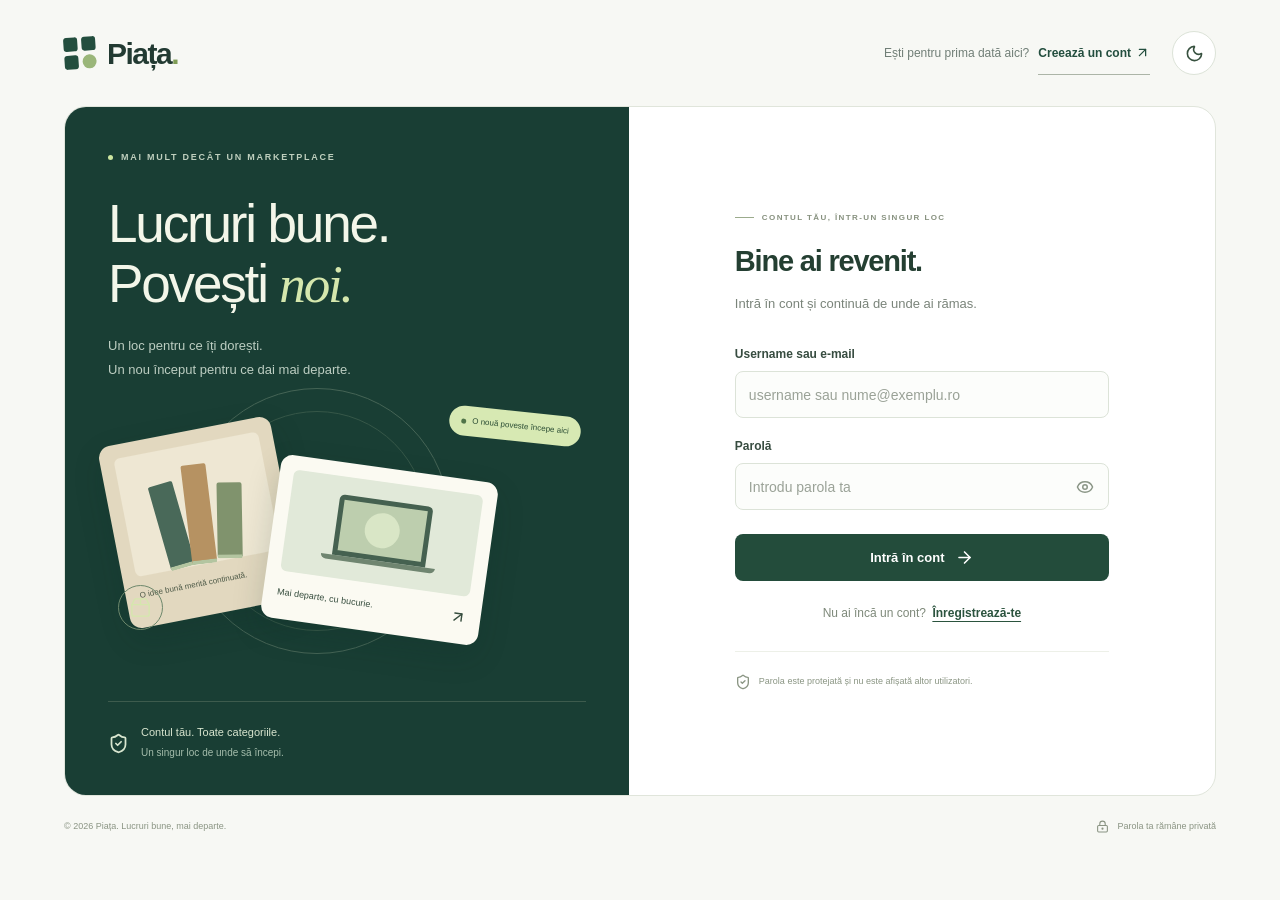
Test: authentication screens › shows a useful login error without navigating to the account page
Type "seller@example.test" into the field labelled "Username sau e-mail". click: point(922, 394)
box: [735,371,1109,418]
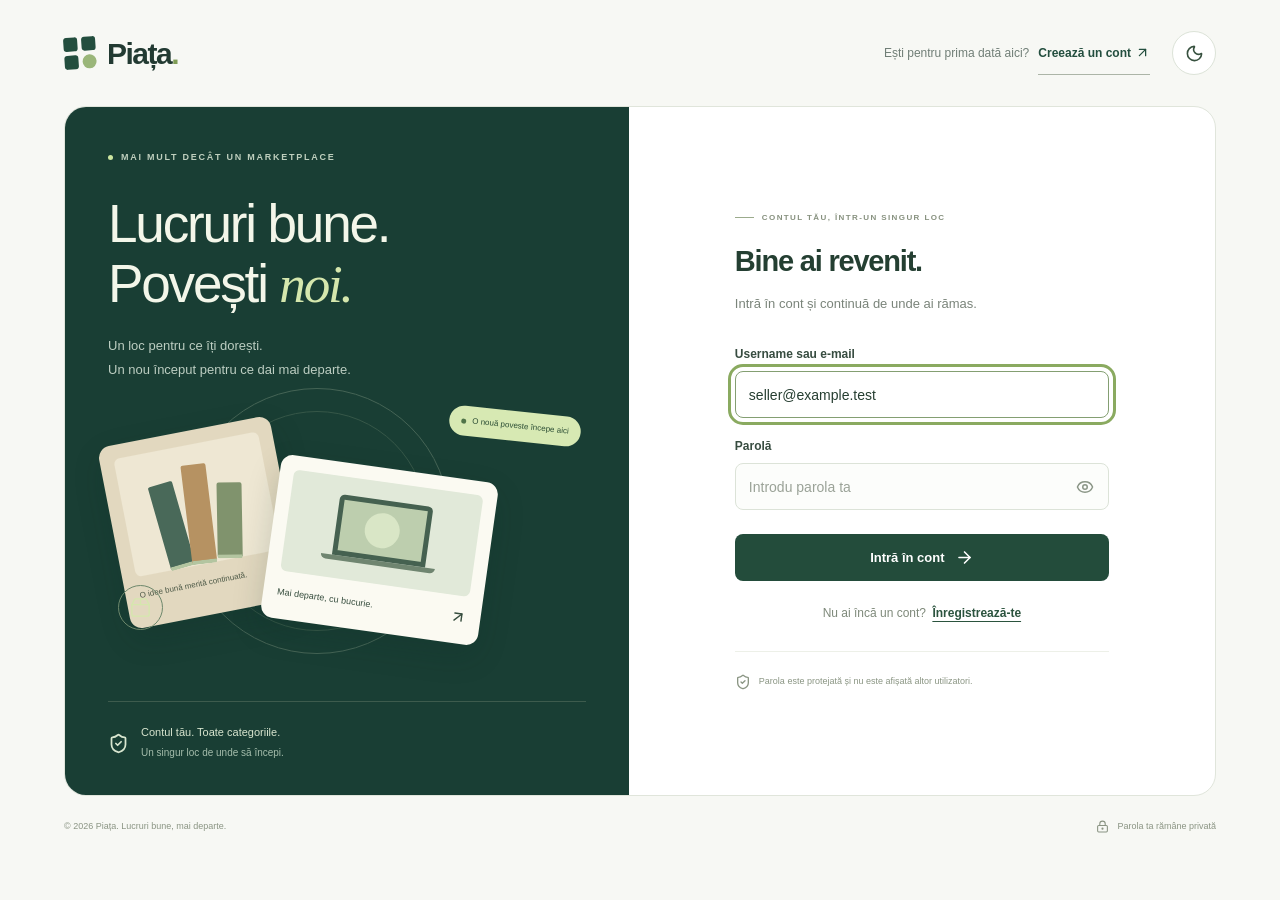
Type "Wrong-password!" into the password field labelled "Parolă". click: point(922, 486)
box: [735,463,1109,510]
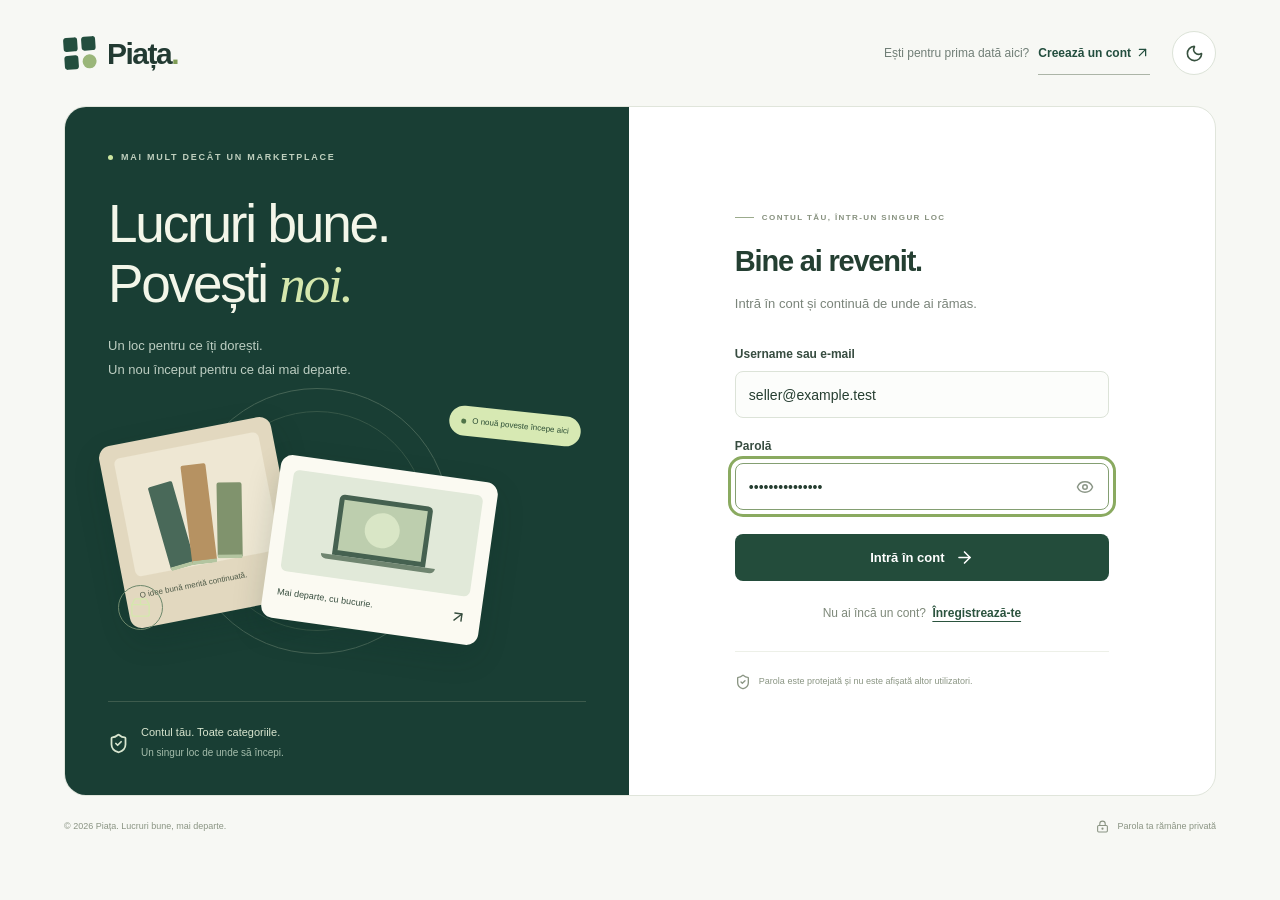
Click the button "Intră în cont". click: point(922, 558)
box: [735,534,1109,581]
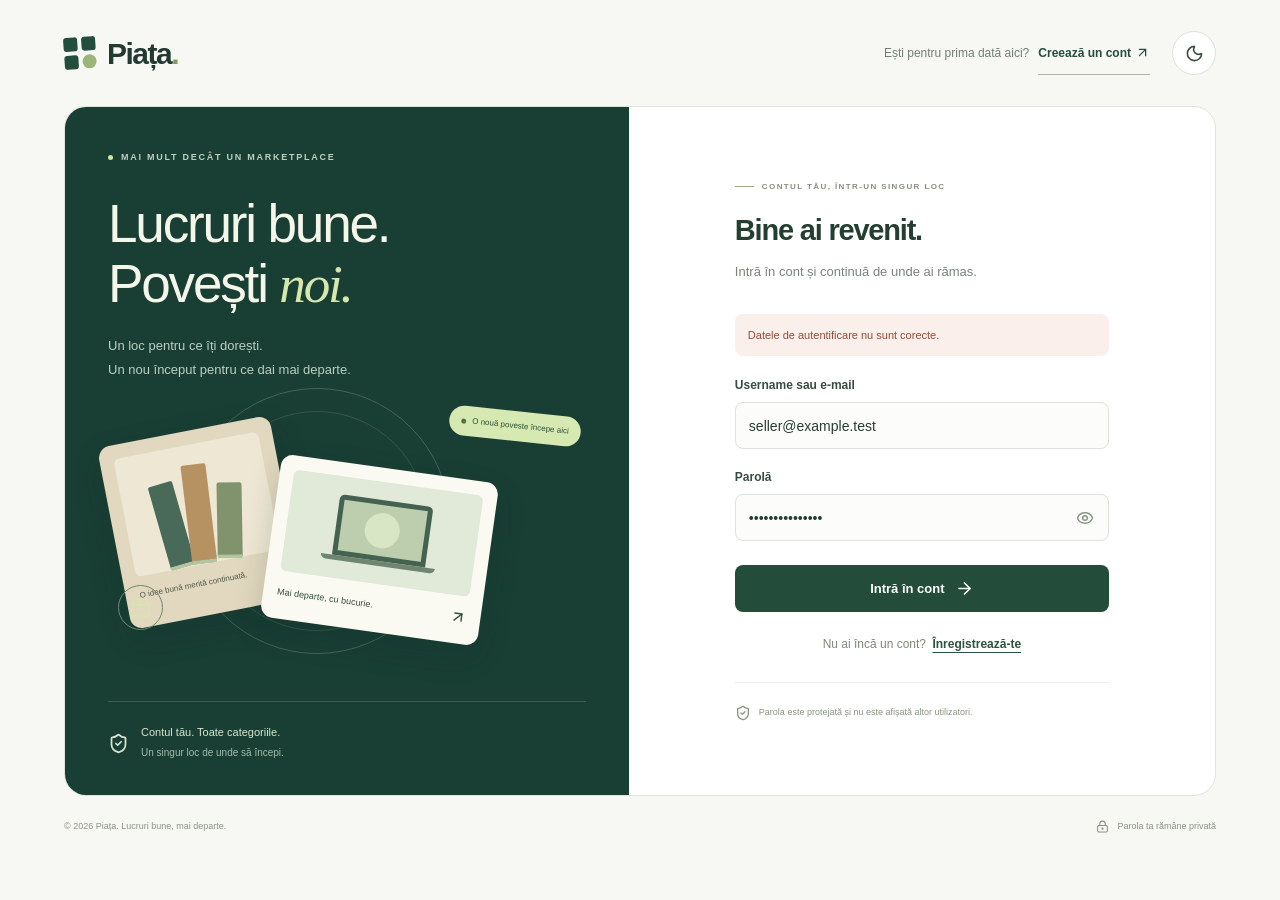
Check: the button "Intră în cont" is enabled, box [735,565,1109,612]
Check: the message reads "Datele de autentificare nu sunt corecte.", box [748,329,939,341]
